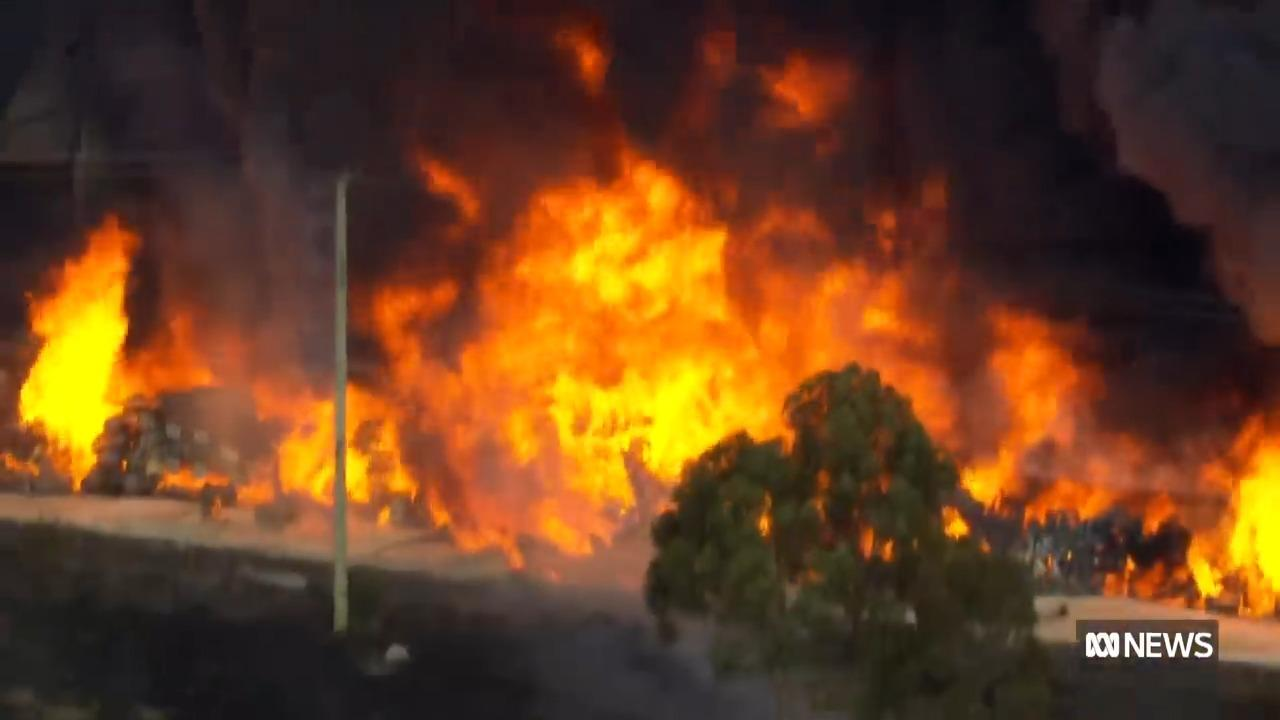fire: (14, 16, 1153, 568), (1200, 420, 1280, 621)
